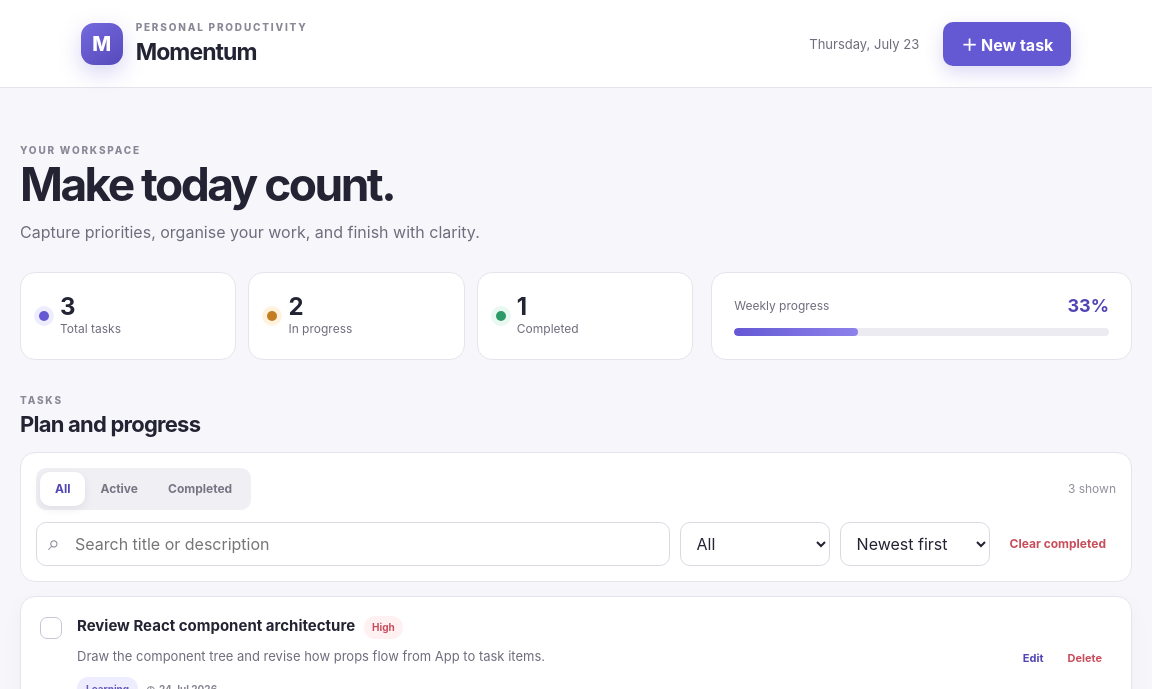
Test: adds a task and persists it to Local Storage
Click the button "＋ New task": x=1007, y=44 [943, 22, 1071, 66]
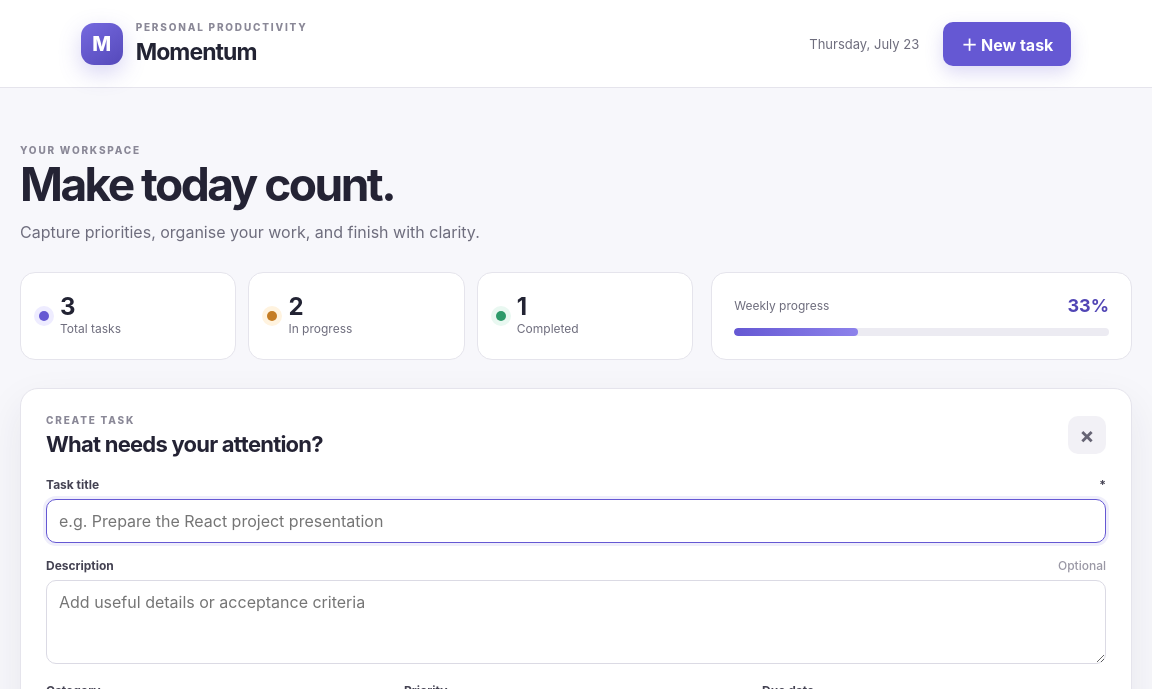
In the field labelled "Task title *": x=576, y=521 [46, 499, 1106, 543], type "Submit React assignment"
(page scrolled)
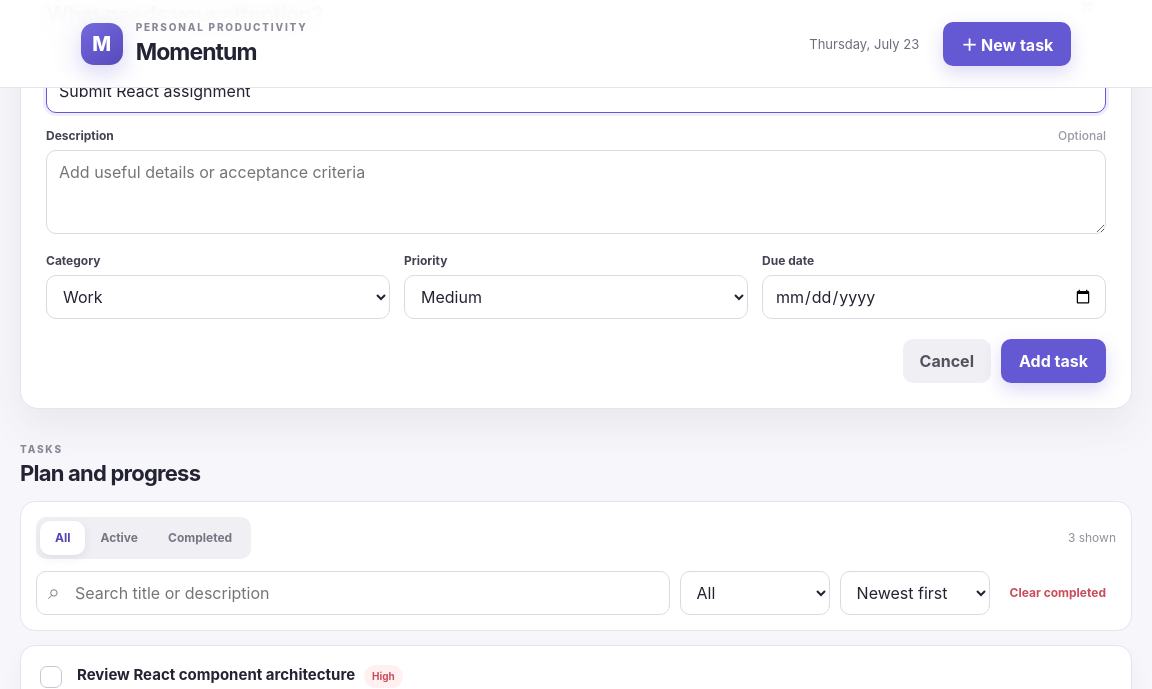
Click the button "Add task": x=1054, y=361 [1001, 339, 1106, 383]
(page scrolled)
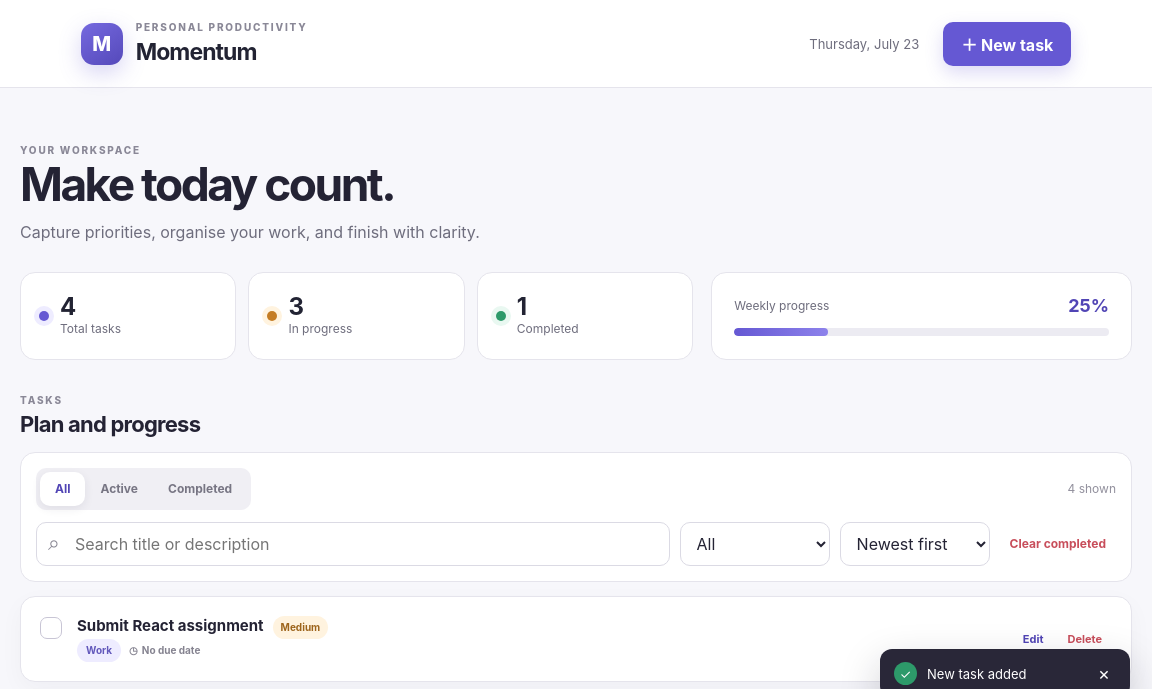
Now the heading "Submit React assignment" is shown, box [77, 616, 264, 636]
